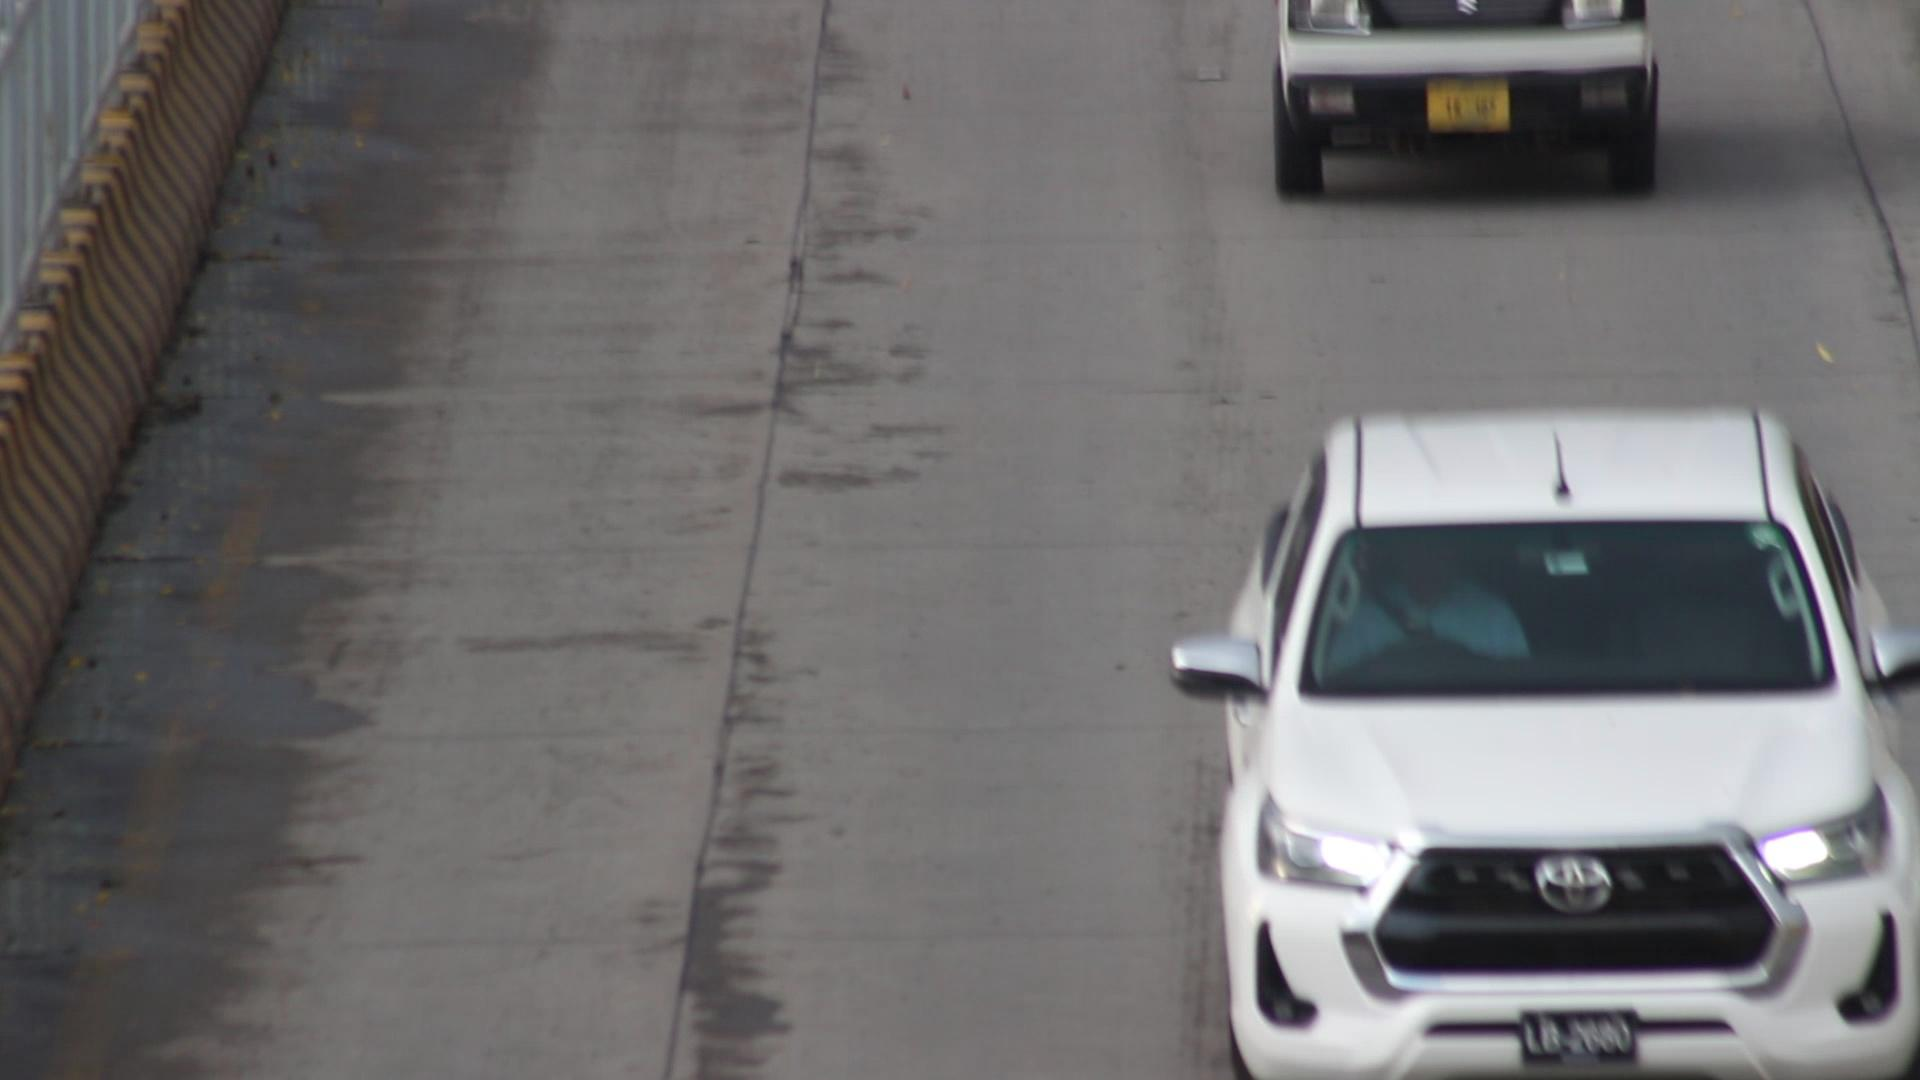windshield: (1287, 510, 1857, 703)
